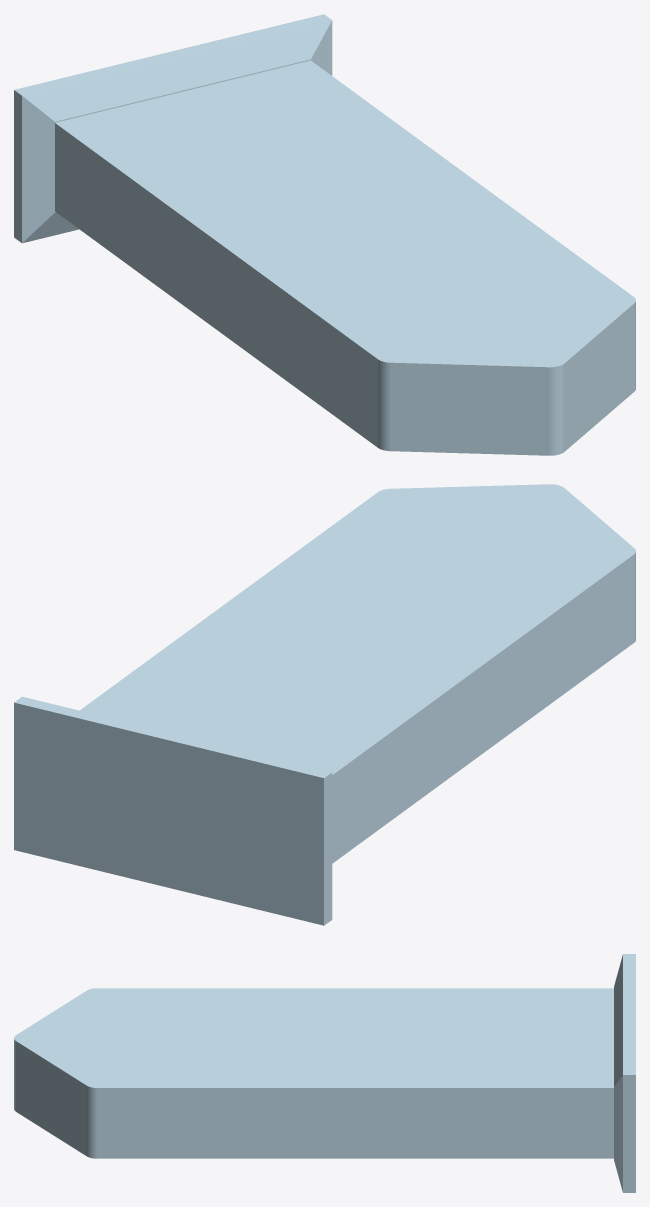
3 views of the same model, one above another, from view 1: azimuth 30°, elevation 25°; view 2: azimuth 150°, elevation 25°; view 3: azimuth 270°, elevation 25° (orthographic). The views are drawn at different scales.
Visible parts, largest first — view 1: PA-316-F_LOD0; view 2: PA-316-F_LOD0; view 3: PA-316-F_LOD0.
Boxes of the visible parts, <box> form: PA-316-F_LOD0: <box>14,14,635,455</box>; PA-316-F_LOD0: <box>14,484,635,925</box>; PA-316-F_LOD0: <box>14,954,635,1192</box>.
Size of what is drawn, in the model's own units: 55.88 by 25.4 by 121.
